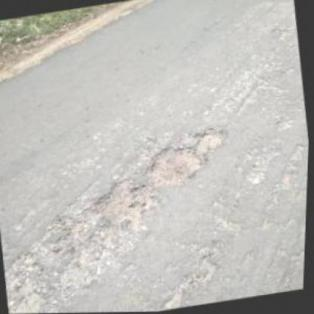Hueco: (85, 172, 164, 236), (141, 141, 211, 192), (193, 126, 230, 156)
